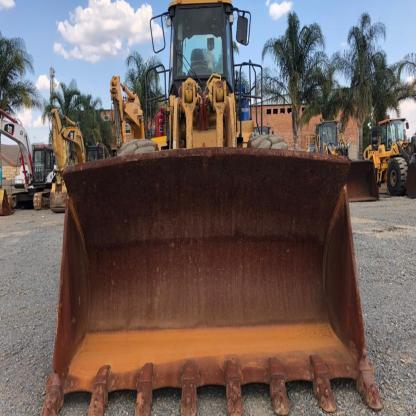bull_dozer/loader/grader: (28, 2, 384, 415)
